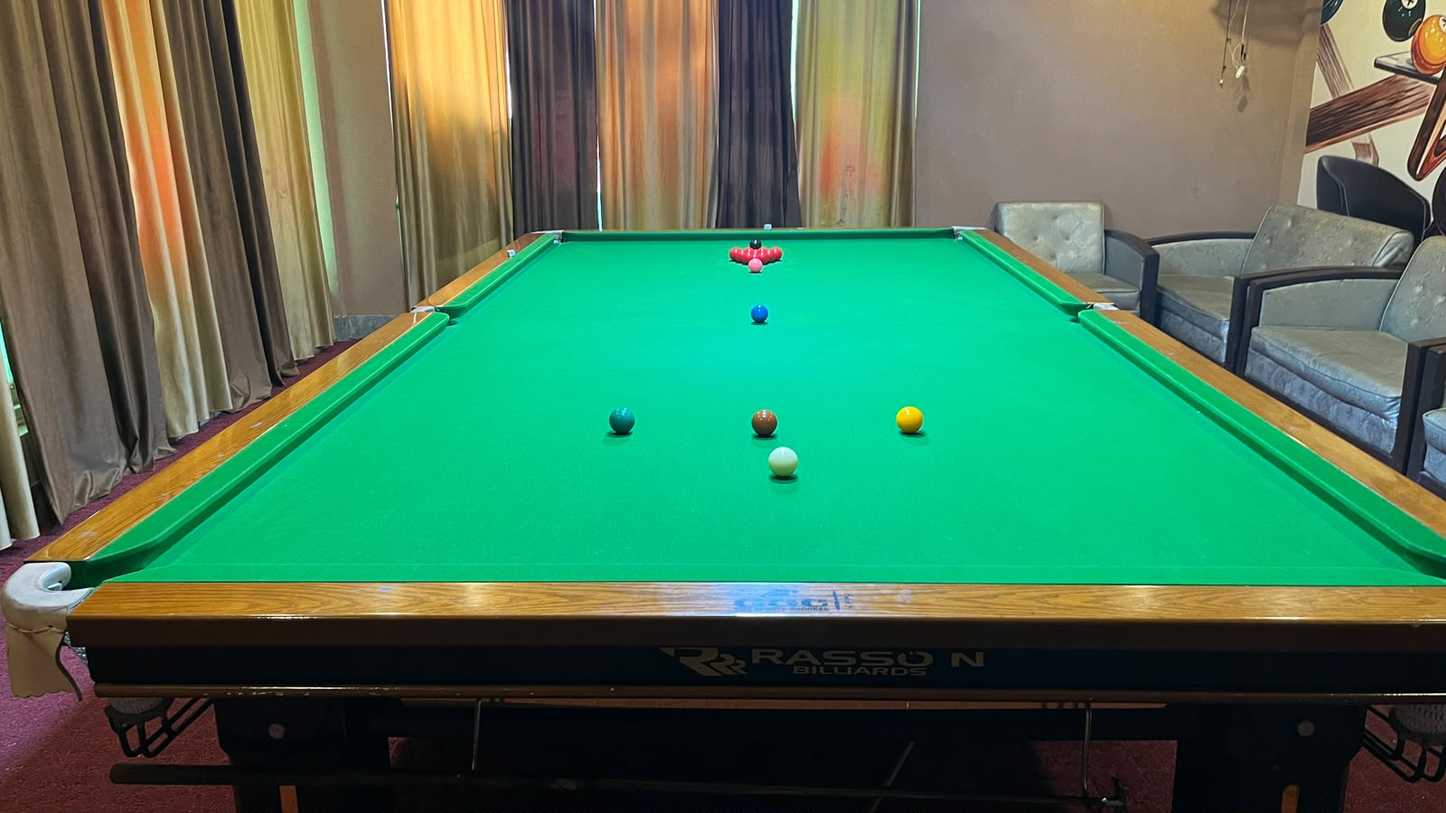Snooker-Rack: (729, 247, 784, 264)
